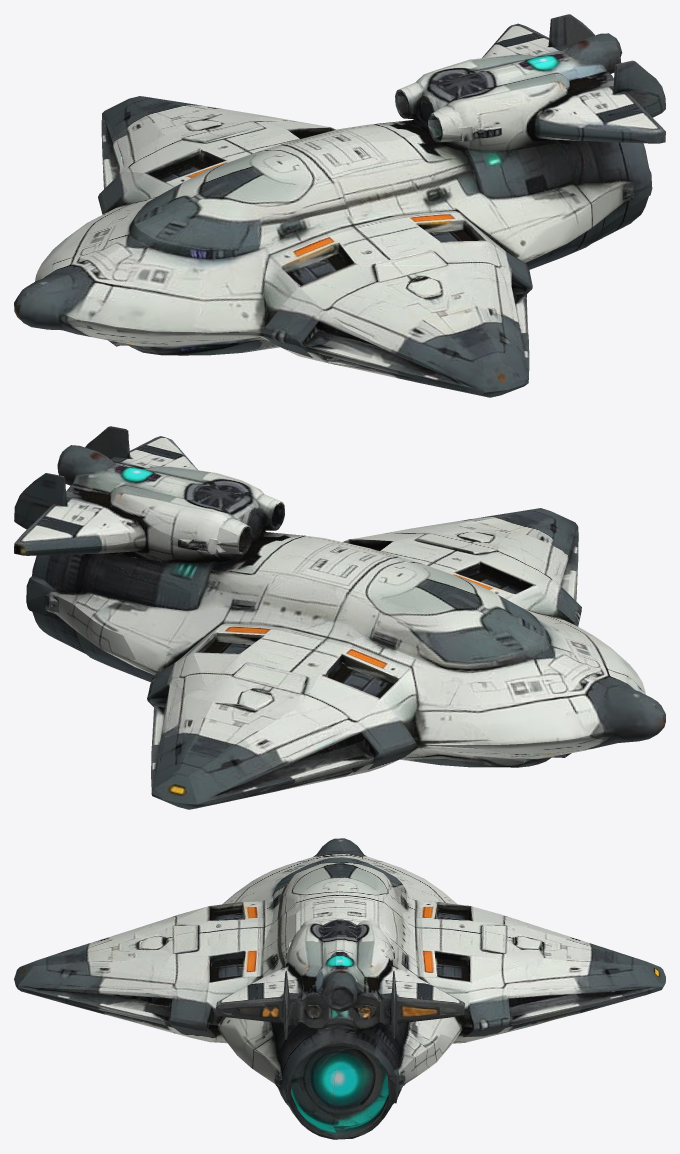
The model's file is vessel-chronos.glb.
3 renders of one model, top to bottom at view 1: azimuth 30°, elevation 25°; view 2: azimuth 150°, elevation 25°; view 3: azimuth 270°, elevation 25°, orthographic. The views are drawn at different scales.
Size of the model in its own units: 1.75 by 0.6185 by 1.9.
Materials: 1 (1 with a texture image).
